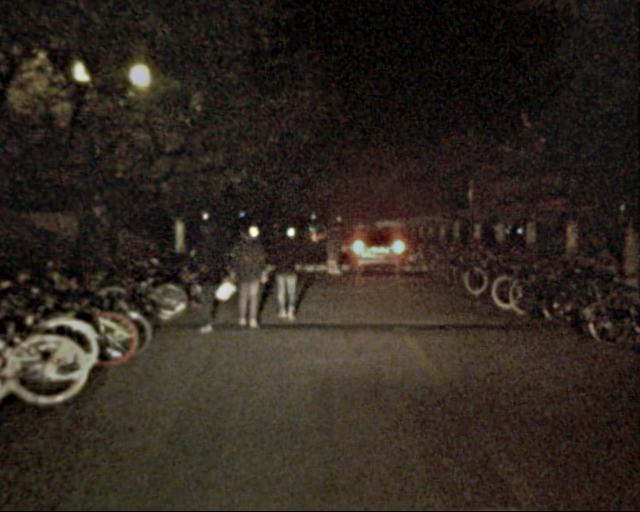person: (193, 212, 231, 329), (268, 215, 302, 325), (234, 226, 265, 329), (322, 227, 344, 274)
